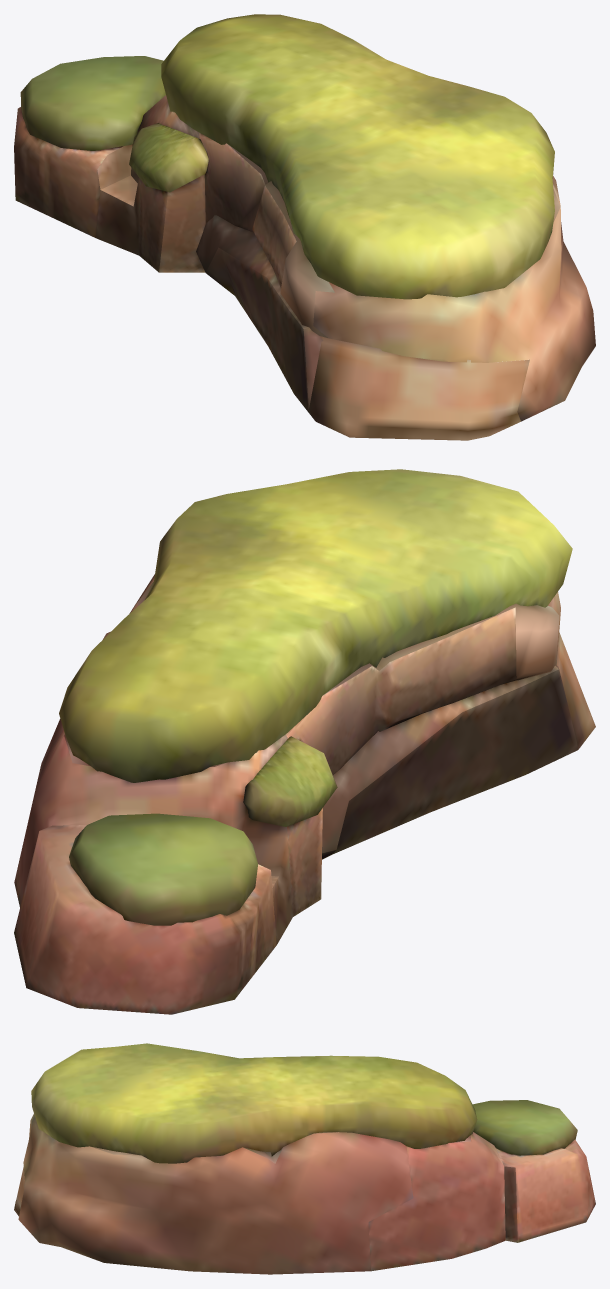
The model's file is pref_sm_4v4beachtech_bk_centerblock_L01c_lv0.fbx.
3 views of the same model, one above another, from view 1: azimuth 30°, elevation 25°; view 2: azimuth 150°, elevation 25°; view 3: azimuth 270°, elevation 25° (orthographic). The views are drawn at different scales.
Parts seen in each view (by area): view 1: sm_4v4beachtech_bk_centerblock_L01c_lv0; view 2: sm_4v4beachtech_bk_centerblock_L01c_lv0; view 3: sm_4v4beachtech_bk_centerblock_L01c_lv0.
Part boxes in pixels (box(x1,y1,x2,y2)): sm_4v4beachtech_bk_centerblock_L01c_lv0: box(14, 14, 595, 440); sm_4v4beachtech_bk_centerblock_L01c_lv0: box(14, 469, 595, 1014); sm_4v4beachtech_bk_centerblock_L01c_lv0: box(14, 1043, 595, 1274).
Bounding box in the file's own units: 3.03 × 1.94 × 6.95.
